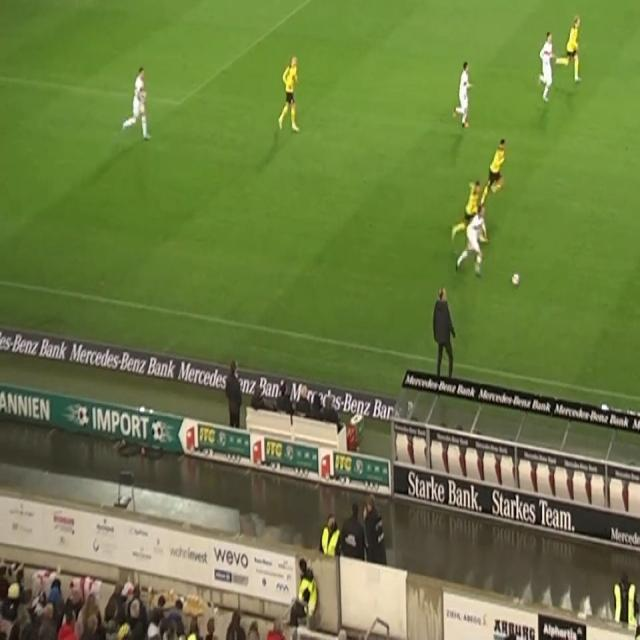ball: (510, 271, 520, 288)
